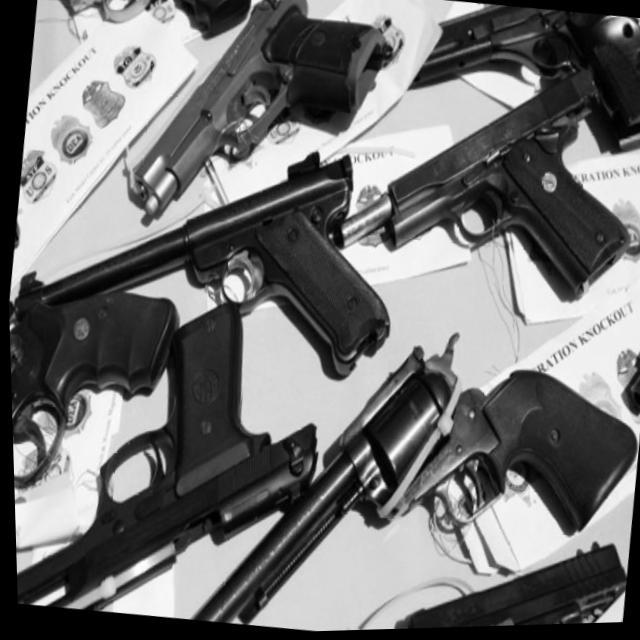weapon: (146, 294, 640, 637), (7, 275, 334, 637), (3, 113, 408, 390), (120, 0, 412, 243), (6, 263, 182, 530), (347, 514, 627, 632), (34, 0, 253, 45)
